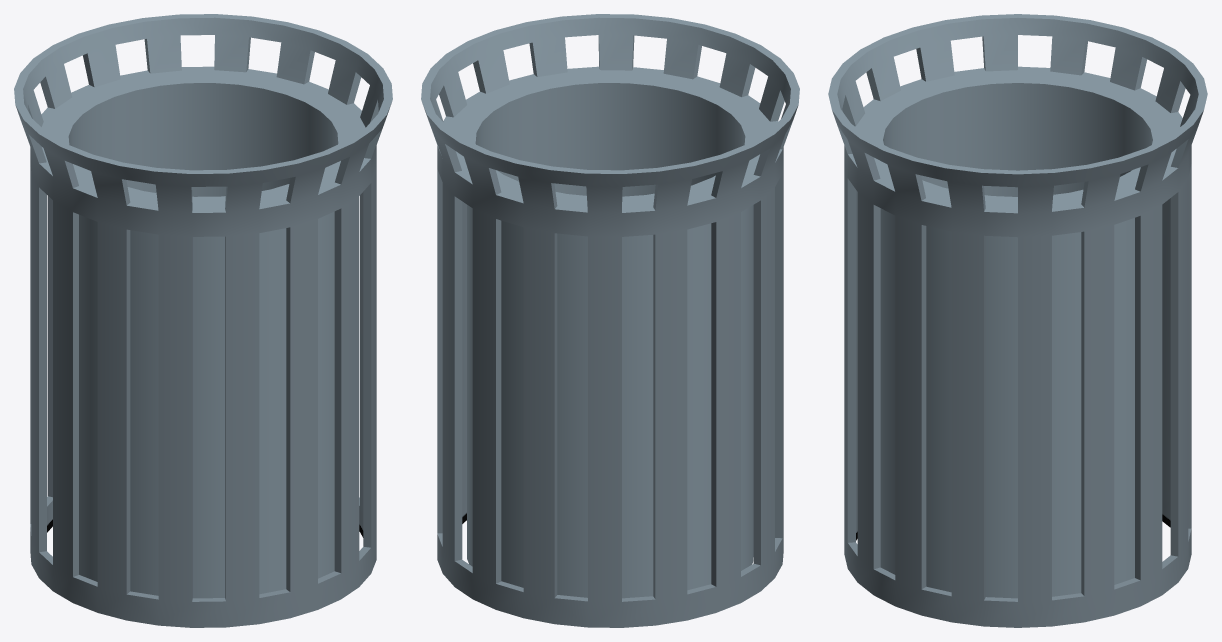
The model's file is Trash Can 2.fbx.
3 renders of one model, left to right at view 1: azimuth 30°, elevation 25°; view 2: azimuth 150°, elevation 25°; view 3: azimuth 270°, elevation 25°, orthographic.
Parts seen in each view (by area): view 1: Trash Can 1; view 2: Trash Can 1; view 3: Trash Can 1.
Boxes of the visible parts, <box> form: Trash Can 1: <box>14,14,392,627</box>; Trash Can 1: <box>421,14,799,627</box>; Trash Can 1: <box>828,14,1207,627</box>.
Size of the model in its own units: 264 by 353 by 264.
1 material, 1 textured.
